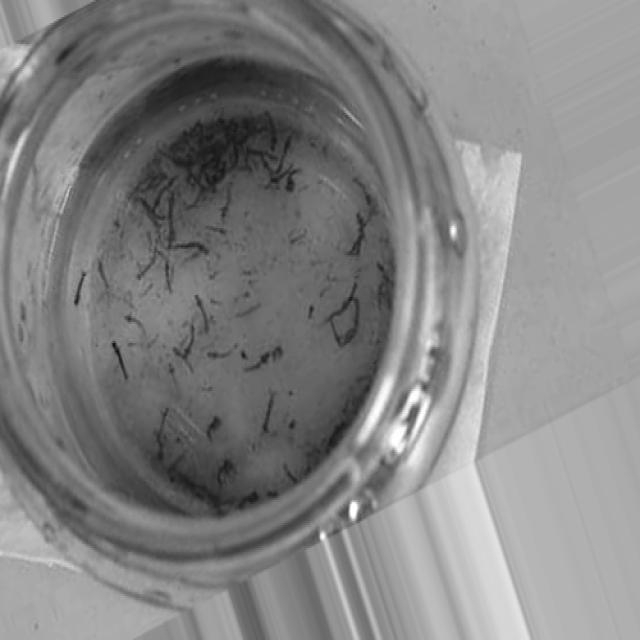larvas: (329, 284, 354, 324), (155, 408, 171, 458), (152, 178, 178, 205), (141, 202, 164, 230), (276, 135, 294, 170), (246, 347, 270, 373), (124, 172, 146, 200), (136, 252, 156, 282), (209, 164, 234, 188), (112, 340, 126, 378), (262, 391, 275, 431), (164, 150, 190, 170), (330, 415, 345, 449), (346, 302, 359, 341), (186, 185, 204, 212), (194, 294, 208, 327), (208, 348, 237, 363), (235, 301, 263, 316), (326, 323, 342, 349), (251, 150, 268, 174), (124, 313, 146, 331), (175, 346, 191, 370), (175, 240, 206, 252), (168, 195, 175, 248), (266, 116, 277, 149), (357, 213, 365, 258), (236, 490, 256, 508), (203, 417, 219, 439), (75, 272, 86, 304), (282, 464, 297, 486), (183, 328, 194, 358), (272, 167, 290, 185), (356, 179, 370, 202), (98, 261, 108, 293), (286, 168, 298, 192), (220, 190, 230, 218), (217, 462, 230, 483), (162, 264, 171, 293), (168, 362, 178, 388), (205, 225, 228, 236)
